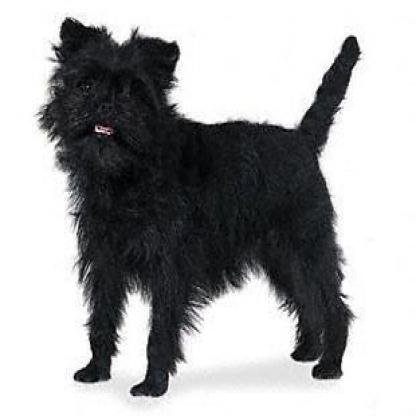affenpinscher: (35, 9, 361, 398)
